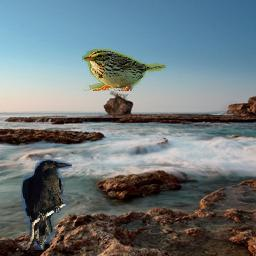Crow: (22, 160, 73, 251)
Sparrow: (82, 49, 166, 91)
